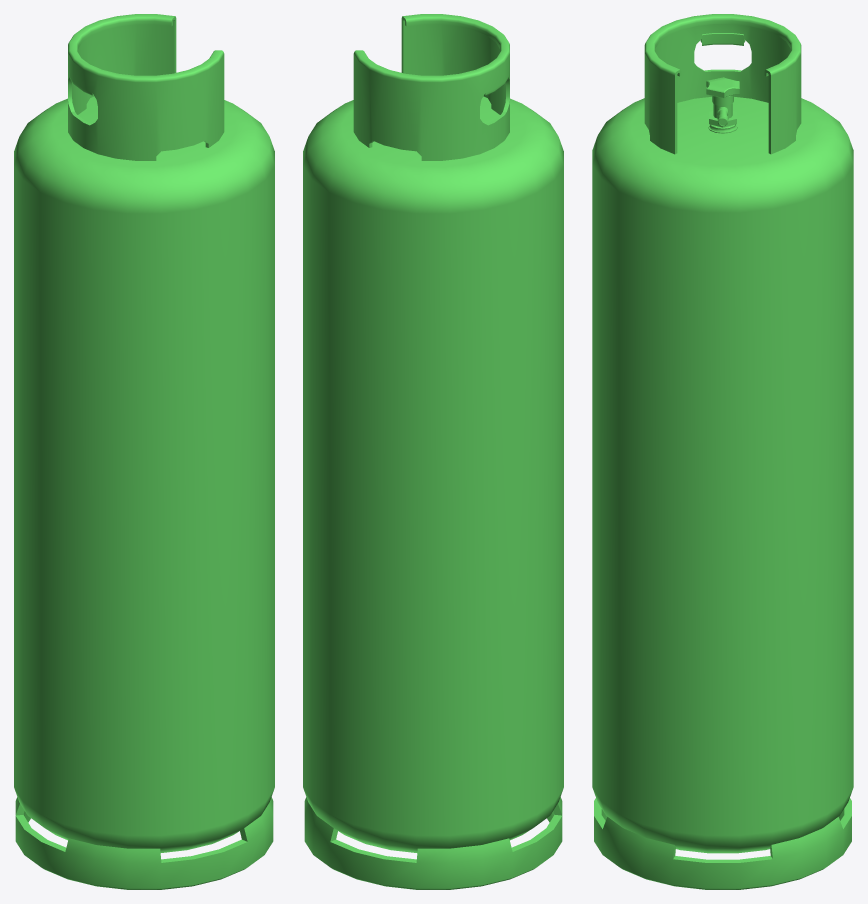
The model's file is gasCylinderLarge.fbx.
3 views of the same model, side by side, from view 1: azimuth 30°, elevation 25°; view 2: azimuth 150°, elevation 25°; view 3: azimuth 270°, elevation 25° (orthographic).
Visible parts, largest first — view 1: Gas_Cylinder_Large; view 2: Gas_Cylinder_Large; view 3: Gas_Cylinder_Large.
Part boxes in pixels (x1,y1,x2,y2): Gas_Cylinder_Large: (14, 14, 274, 889); Gas_Cylinder_Large: (303, 14, 563, 889); Gas_Cylinder_Large: (592, 14, 853, 889).
Size of the model in its own units: 37 by 124 by 37.
